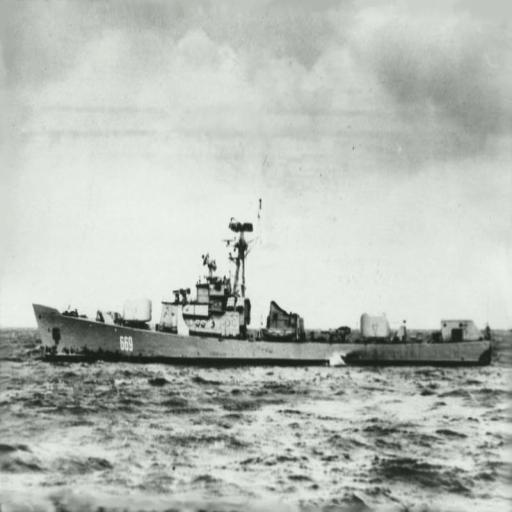Fragata: (34, 215, 496, 371)
